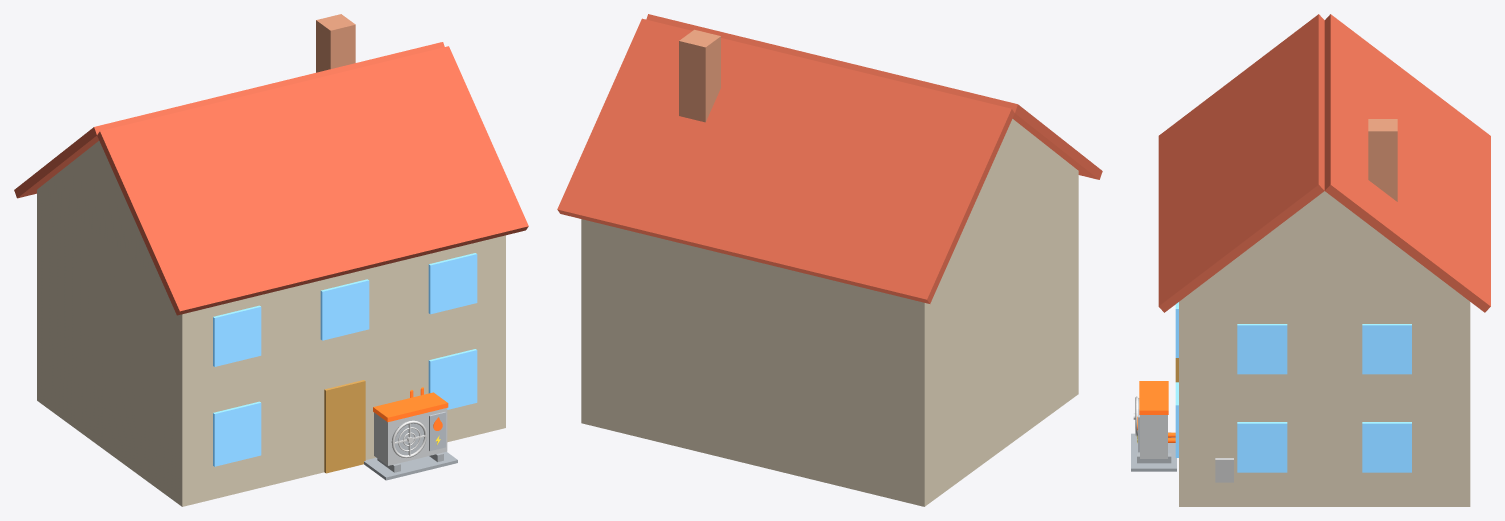
The model's file is LoadHeatpump-house.glb.
3 renders of one model, left to right at view 1: azimuth 30°, elevation 25°; view 2: azimuth 150°, elevation 25°; view 3: azimuth 270°, elevation 25°, orthographic. The views are drawn at different scales.
Visible parts, largest first — view 1: walls, roof_front, window (×5), gable, roof_back, door, chimney, unit, band, plinth, fan; view 2: walls, roof_back, gable, roof_front, chimney; view 3: walls, roof_front, roof_back, gable, window (×4), chimney, unit, band, plinth, meter_box.
Part boxes in pixels (left/top/right/bottom): walls: left=37, top=190, right=505, bottom=506; roof_front: left=97, top=46, right=528, bottom=315; window (×5): left=213, top=253, right=477, bottom=466; gable: left=37, top=141, right=161, bottom=280; roof_back: left=14, top=42, right=444, bottom=198; door: left=324, top=380, right=365, bottom=473; chimney: left=316, top=14, right=355, bottom=72; unit: left=374, top=408, right=447, bottom=465; band: left=373, top=392, right=448, bottom=422; plinth: left=364, top=451, right=457, bottom=480; fan: left=391, top=420, right=426, bottom=458; walls: left=581, top=171, right=1078, bottom=506; roof_back: left=557, top=18, right=1014, bottom=303; gable: left=947, top=119, right=1078, bottom=266; roof_front: left=646, top=14, right=1102, bottom=179; chimney: left=679, top=29, right=720, bottom=122; walls: left=1179, top=295, right=1470, bottom=506; roof_front: left=1158, top=14, right=1324, bottom=312; roof_back: left=1324, top=14, right=1490, bottom=312; gable: left=1187, top=191, right=1461, bottom=295; window (×4): left=1237, top=324, right=1411, bottom=472; chimney: left=1368, top=119, right=1397, bottom=201; unit: left=1140, top=415, right=1167, bottom=458; band: left=1139, top=381, right=1168, bottom=414; plinth: left=1131, top=433, right=1176, bottom=471; meter_box: left=1215, top=458, right=1233, bottom=482.
Size of the model in its own units: 9.7 by 9.24 by 8.64.
